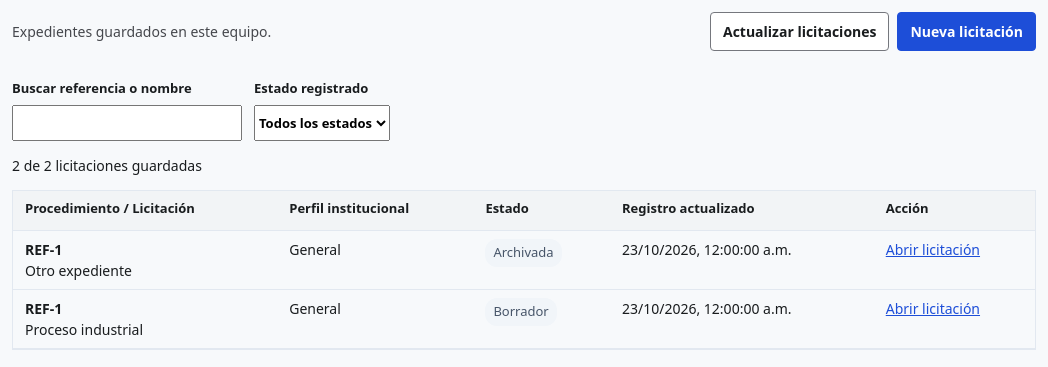
it: UIR3-01/03/34/35: table-first list filters complete real response and translates states
Check: the text "Proceso industrial" is shown, box [25,320,143,339]
Check: the table shows "Archivada", box [493,243,554,261]
Type "Otro" into the field labelled "Buscar referencia o nombre" at (127, 122), box [12,104,242,140]
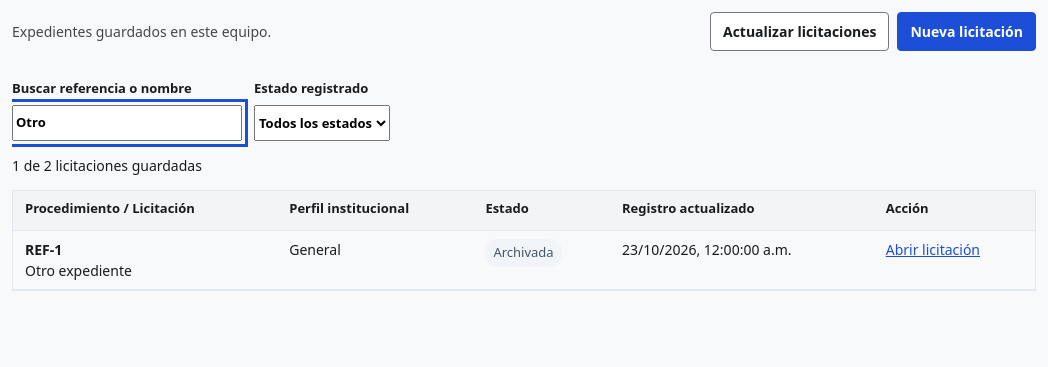
Check: the text "Otro expediente" is shown, box [25,261,132,280]
Check: the text "Proceso industrial" is gone
Clear the field labelled "Buscar referencia o nombre" at (127, 122), box [12,104,242,140]
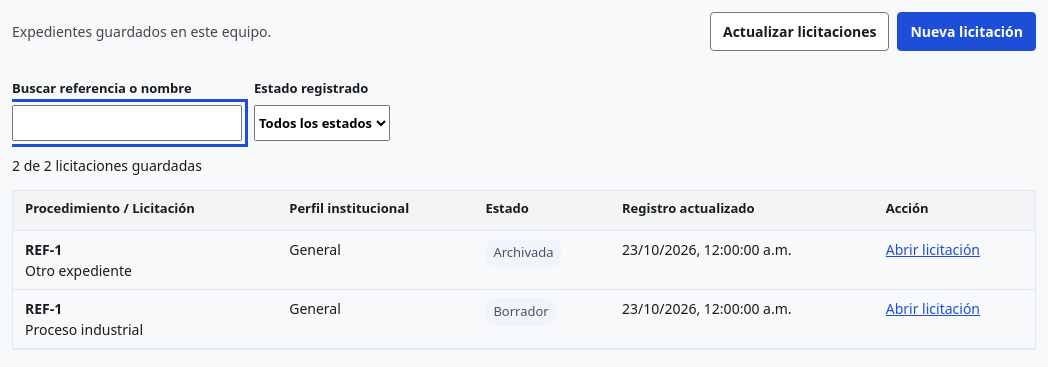
Select "Borrador" in the dropdown labelled "Estado registrado" at (322, 122), box [254,104,390,140]
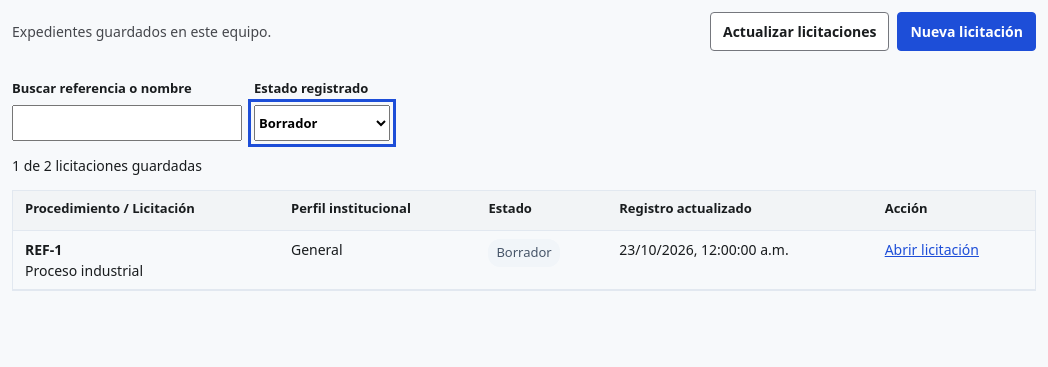
Check: the text "Otro expediente" is gone
